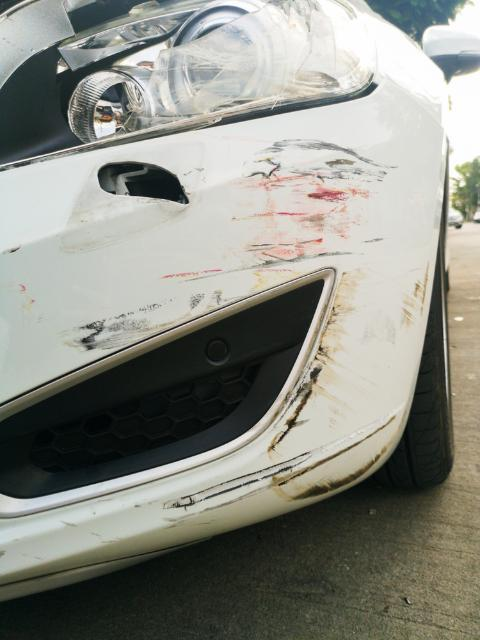lamp broken: (0, 0, 374, 166)
scratch: (72, 128, 442, 515)
